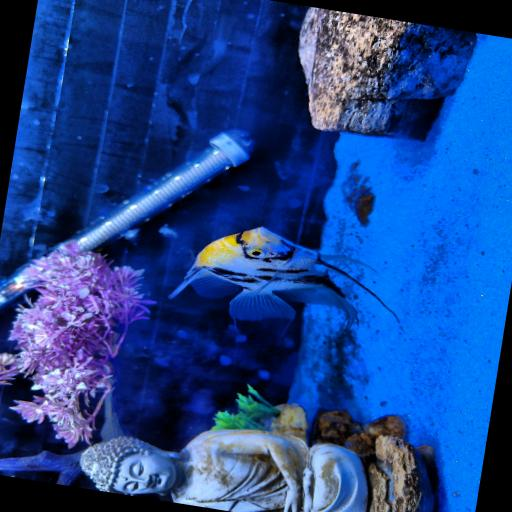Fish: (170, 227, 390, 320)
